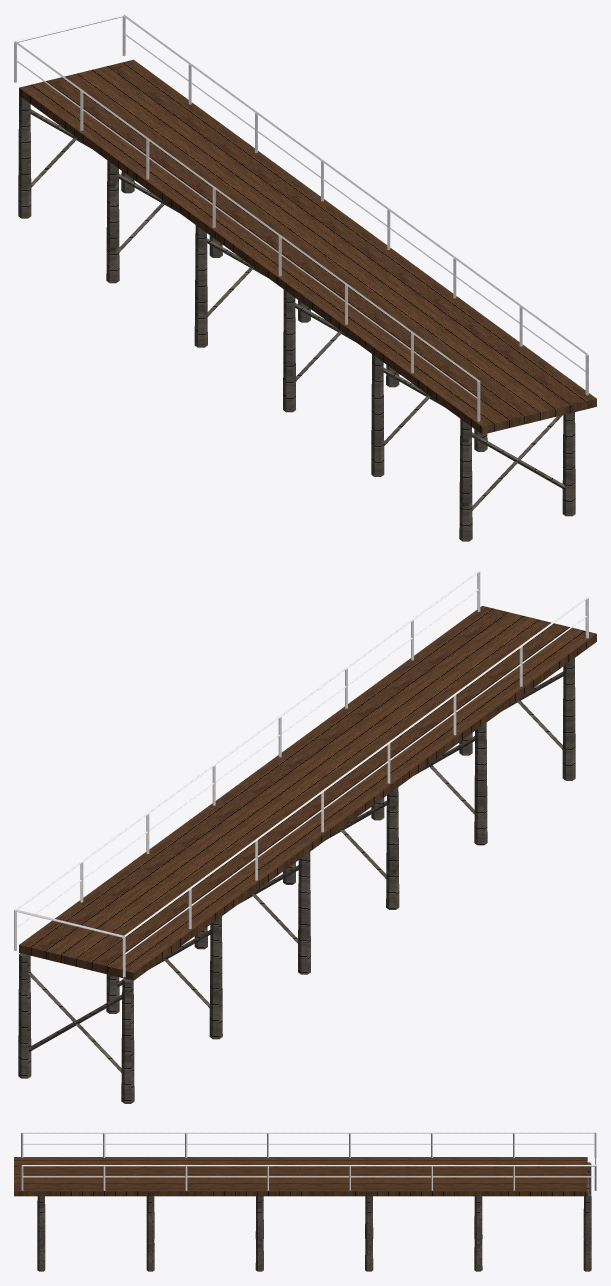
Rendered from muelle_alto.obj.
3 views of the same model, one above another, from view 1: azimuth 30°, elevation 25°; view 2: azimuth 150°, elevation 25°; view 3: azimuth 270°, elevation 25° (orthographic). The views are drawn at different scales.
Visible parts, largest first — view 1: muelle_alto; view 2: muelle_alto; view 3: muelle_alto.
Part boxes in pixels (x1,y1,x2,y2): muelle_alto: [14, 14, 596, 541]; muelle_alto: [14, 570, 596, 1103]; muelle_alto: [14, 1132, 596, 1271].
Bounding box in the file's own units: 3 × 4.28 × 21.34.
3 materials, 3 textured.
